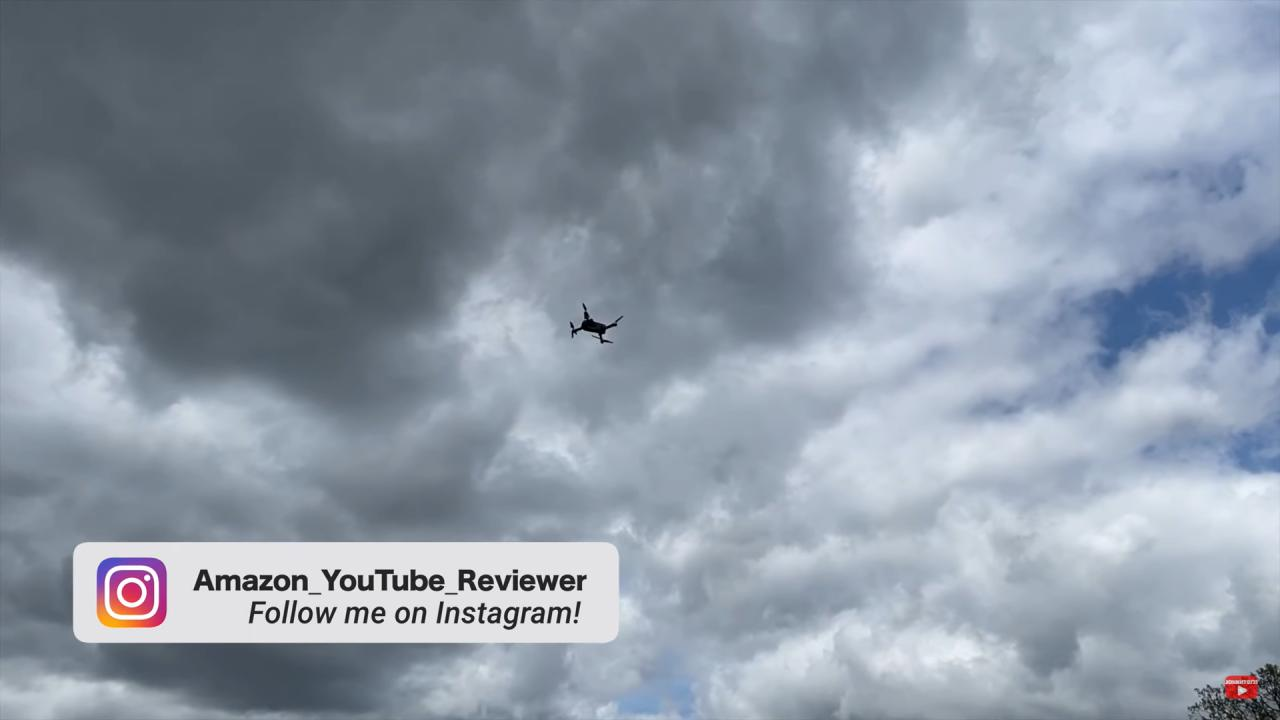Drone: (555, 294, 633, 354)
